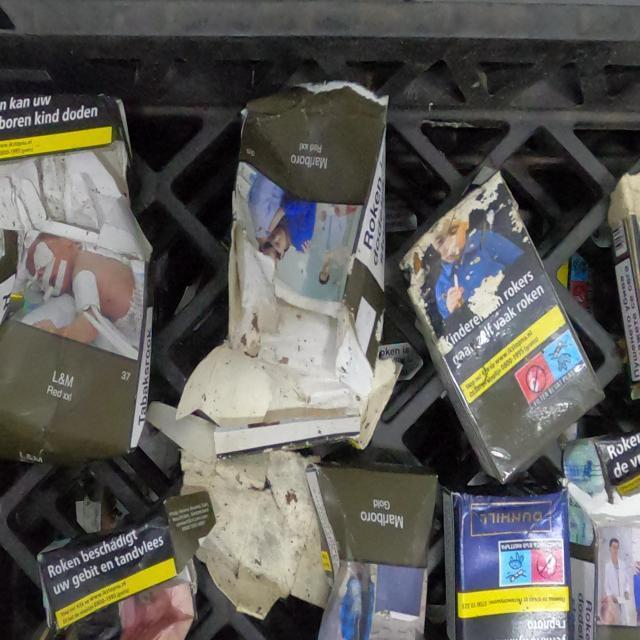Paper: (175, 79, 388, 458), (396, 158, 586, 462), (1, 96, 148, 451), (39, 486, 217, 640), (306, 461, 434, 640), (444, 487, 567, 634), (564, 435, 639, 640), (606, 165, 640, 408)
